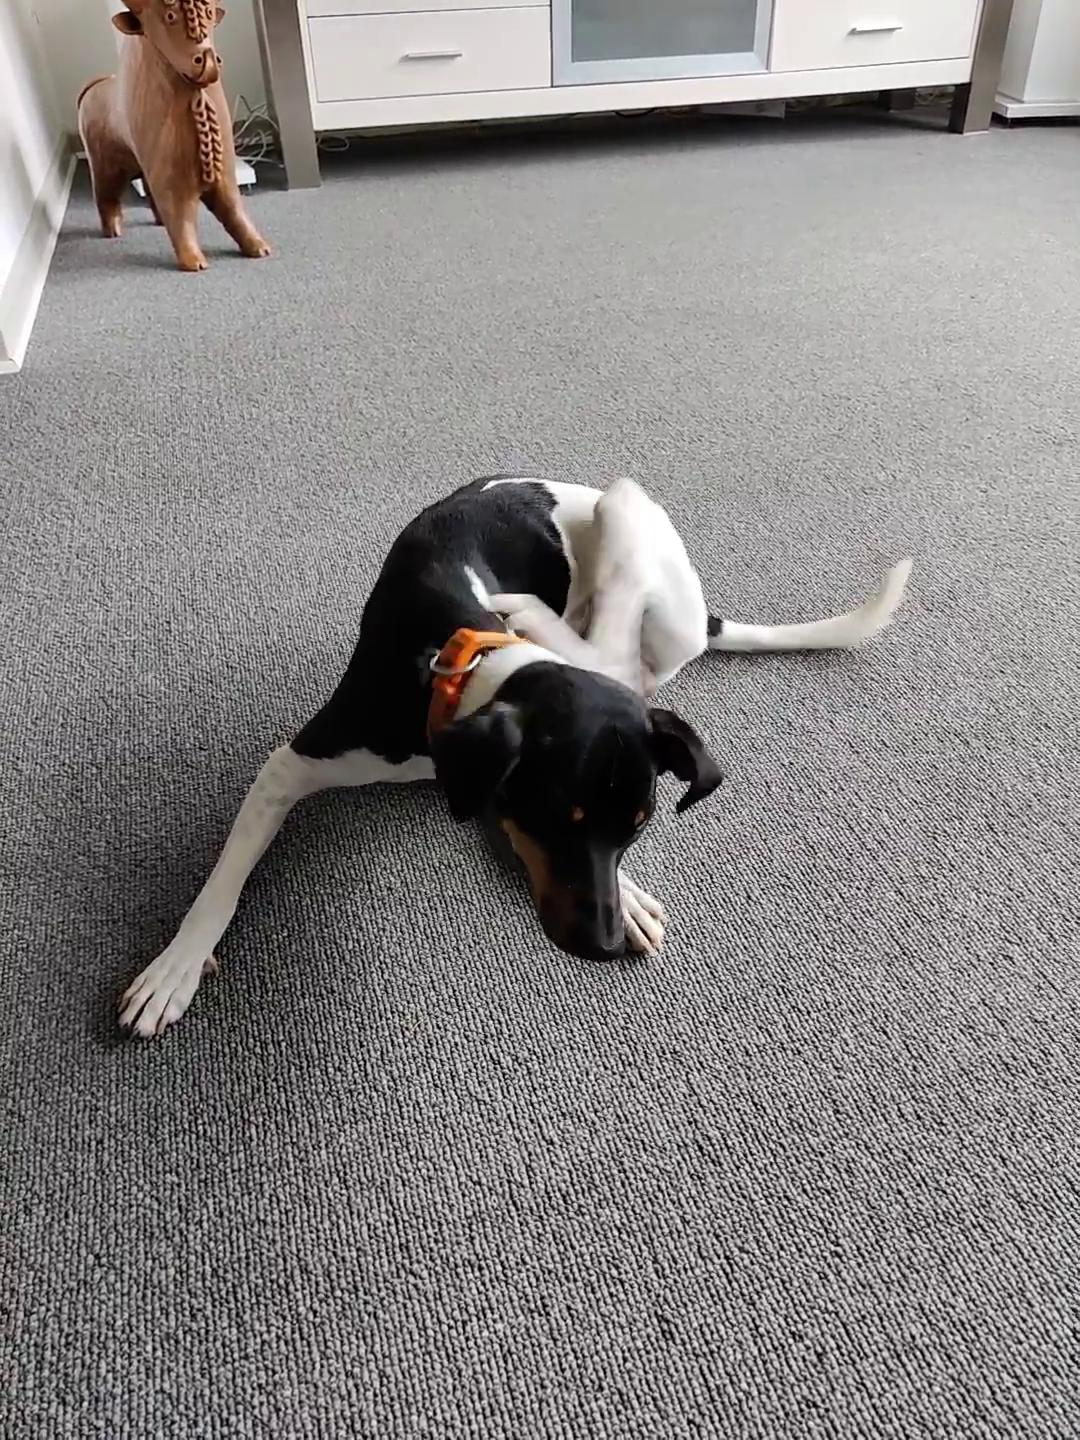Dog: (101, 457, 914, 1045)
